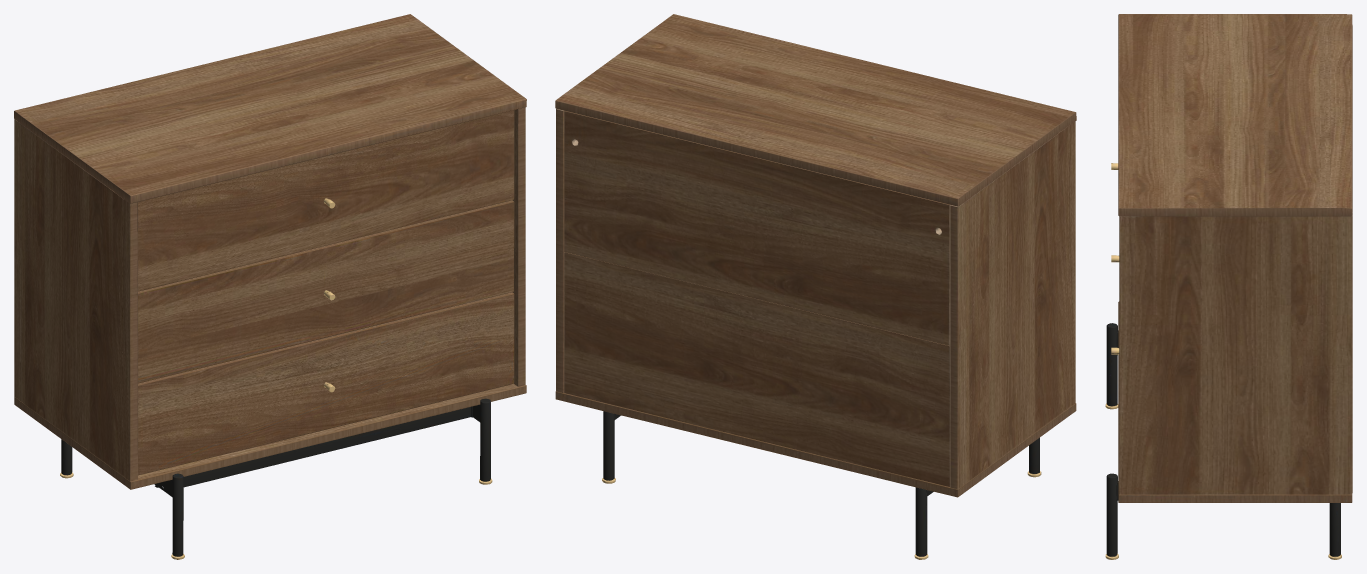
The model's file is radmanso_komoda_3_szuflady_20593604.glb.
3 renders of one model, left to right at view 1: azimuth 30°, elevation 25°; view 2: azimuth 150°, elevation 25°; view 3: azimuth 270°, elevation 25°, orthographic.
Visible parts, largest first — view 1: radmanso_komoda_3_szuflady_20593604; view 2: radmanso_komoda_3_szuflady_20593604; view 3: radmanso_komoda_3_szuflady_20593604.
Part boxes in pixels (x1=…): radmanso_komoda_3_szuflady_20593604: x1=14, y1=14, x2=526, y2=559; radmanso_komoda_3_szuflady_20593604: x1=555, y1=14, x2=1076, y2=559; radmanso_komoda_3_szuflady_20593604: x1=1105, y1=14, x2=1352, y2=559.
Bounding box in the file's own units: 0.9035 × 0.8065 × 0.4859.
Materials: 4 (4 with a texture image).
